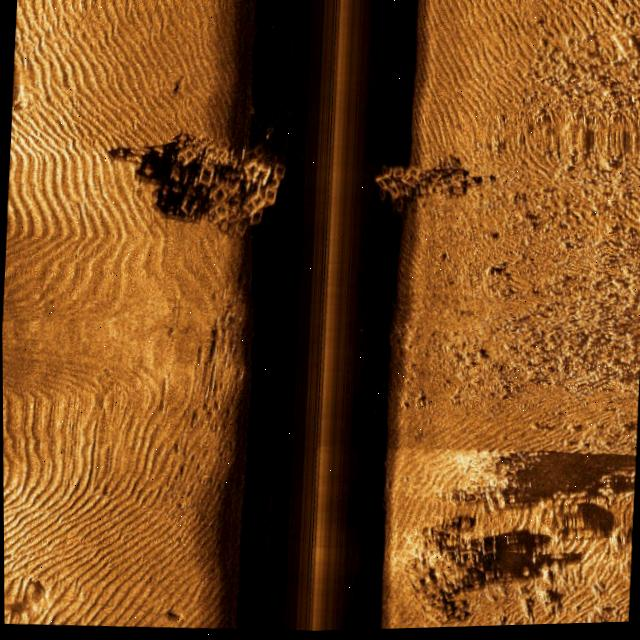artificial reef: (162, 123, 293, 244), (357, 146, 463, 226)
